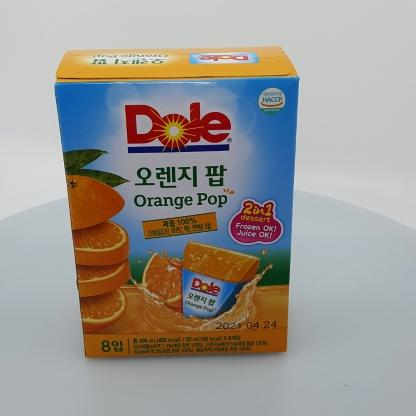--------496ML: (54, 46, 300, 358)
